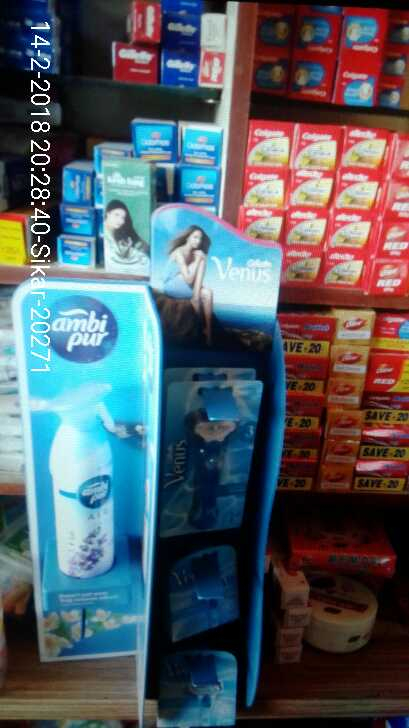beauty: (167, 385, 258, 541)
home: (45, 366, 130, 585)
